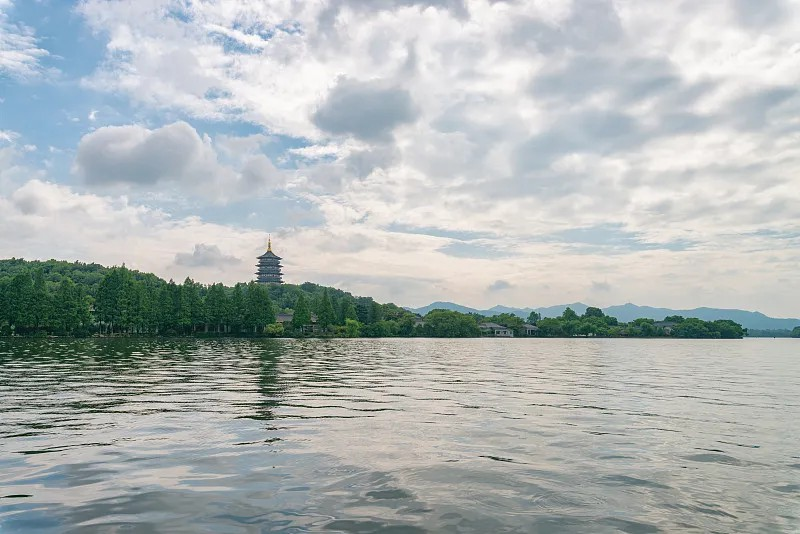Leifeng: (255, 232, 285, 287)
